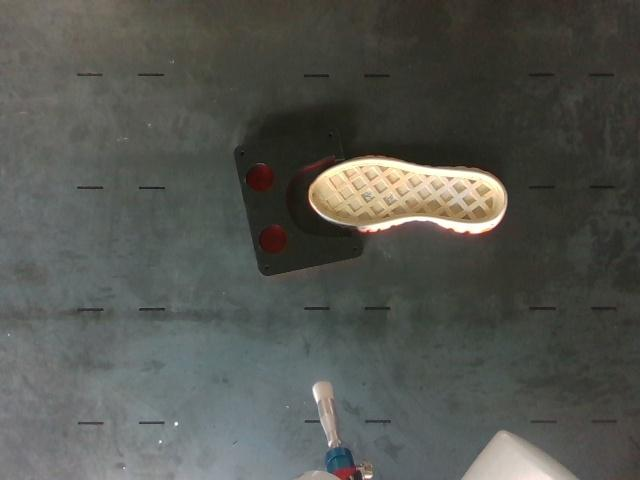shoes: (309, 160, 504, 225)
